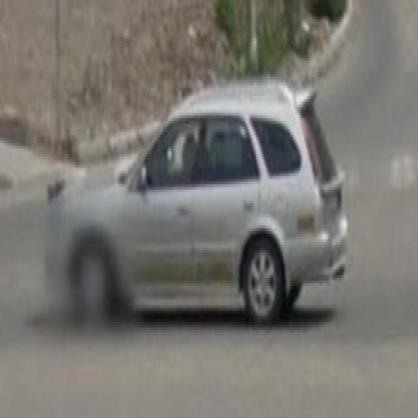car: (35, 77, 357, 346)
